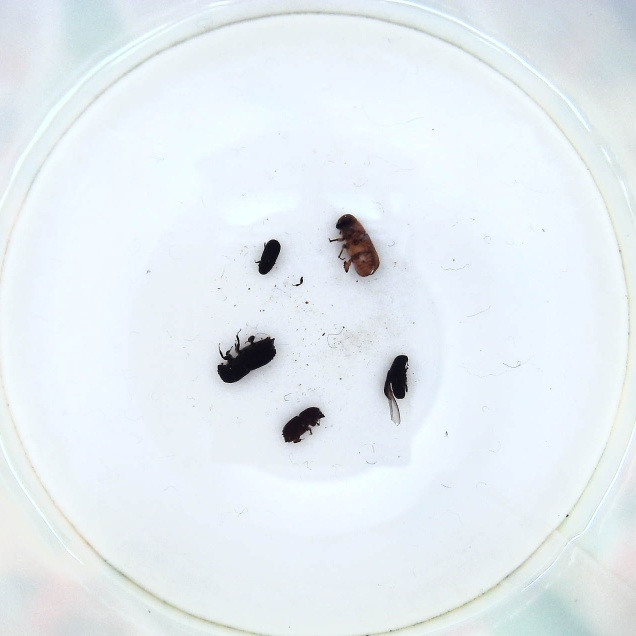armandi: (381, 353, 415, 420)
boerner: (215, 332, 278, 386)
coleoptera: (254, 235, 281, 276)
leconte: (326, 214, 382, 280)
linnaeus: (281, 405, 326, 443)
